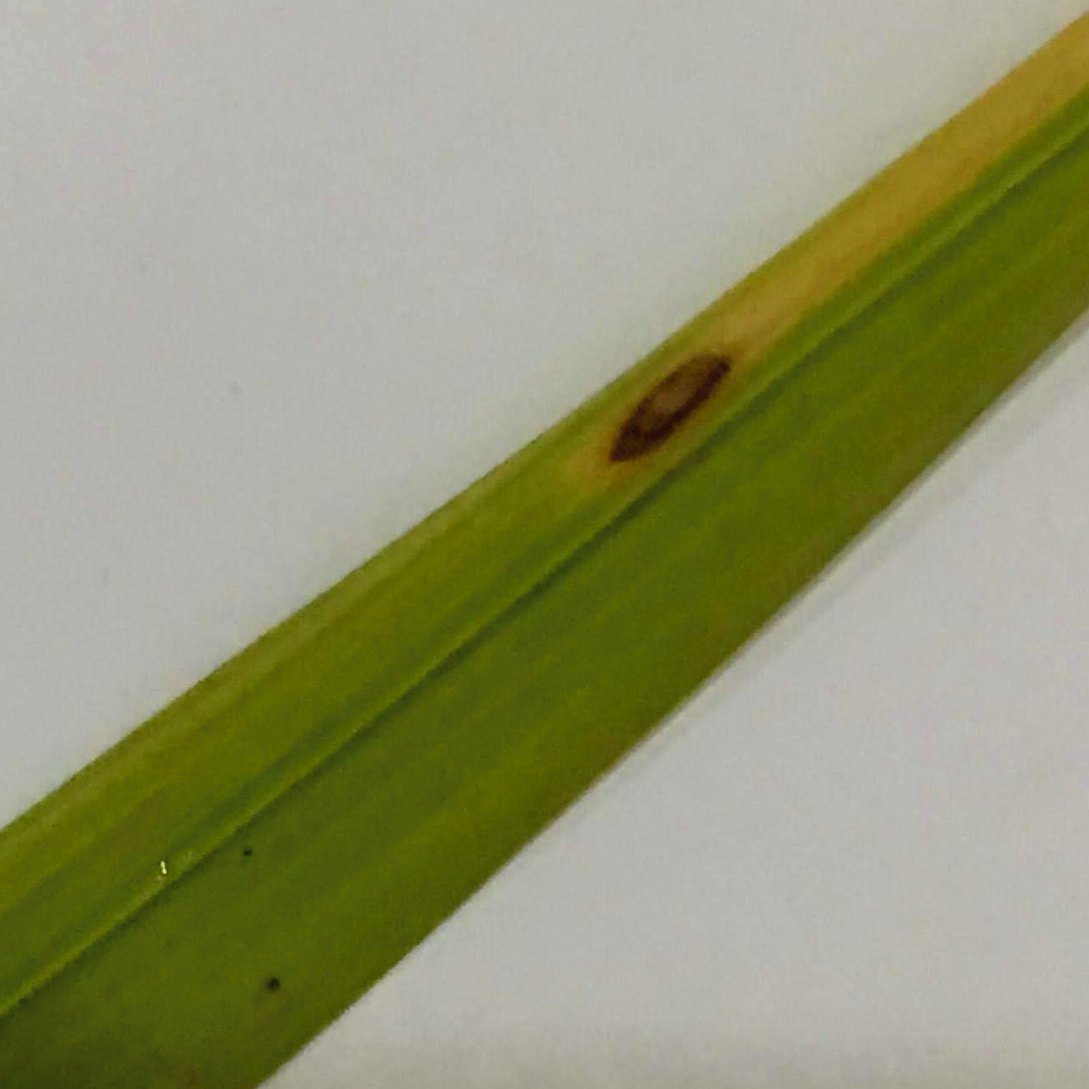Brown_Spot: (583, 319, 746, 495)
